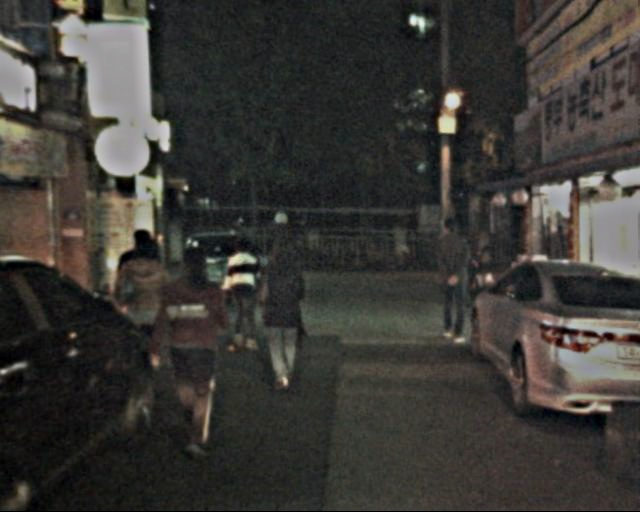person: (158, 237, 237, 458), (251, 234, 313, 394), (115, 241, 177, 391), (429, 213, 478, 348), (220, 237, 269, 353), (256, 206, 299, 312)
